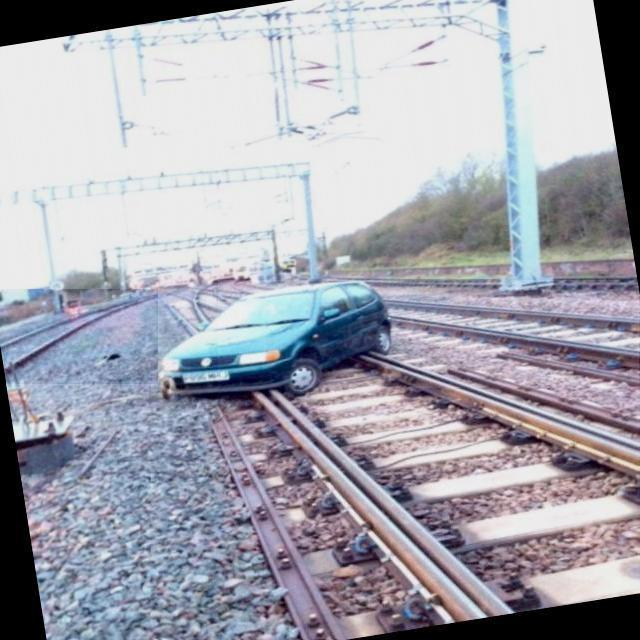rail: (153, 287, 640, 640), (219, 281, 640, 389), (1, 291, 159, 385)
